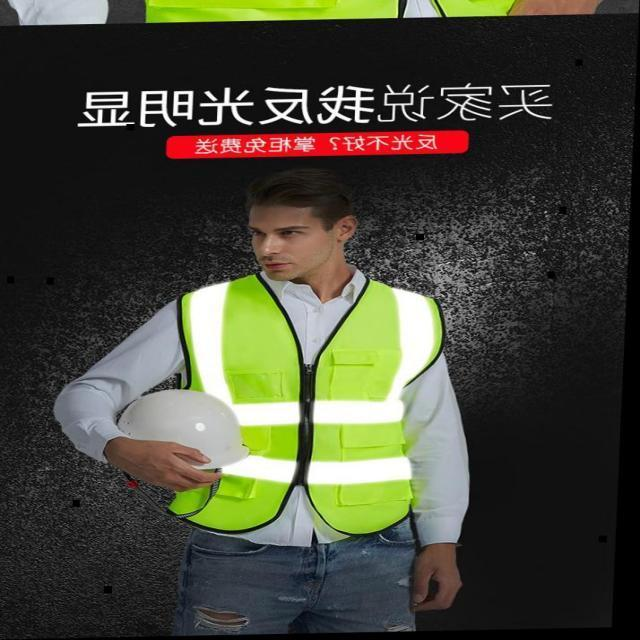safety_helmet: (79, 275, 472, 538)
